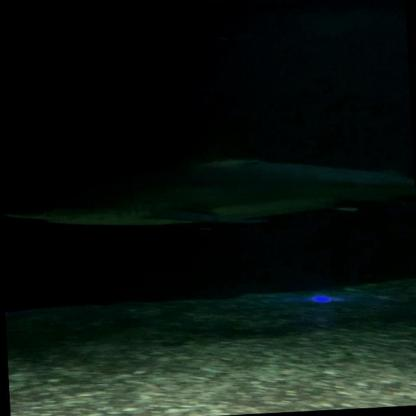shark: (0, 119, 415, 237)
